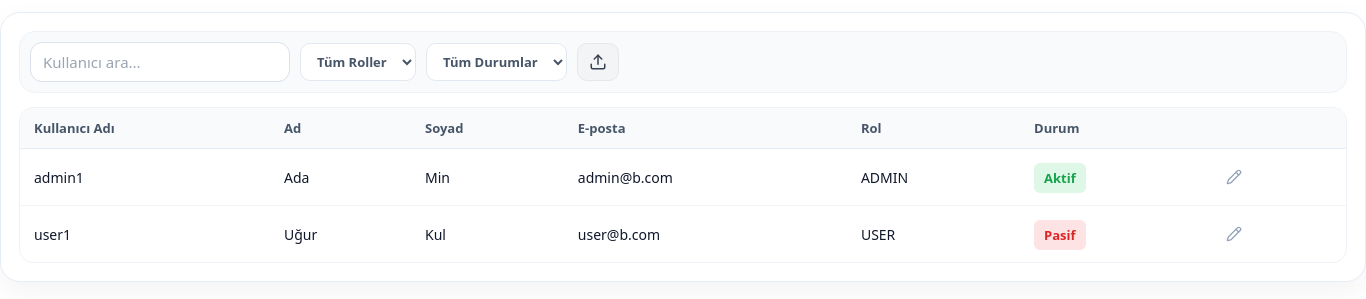
it: UserList › filters by role
Expected: the text "admin1" is shown, [20,149,270,206]
Select "Admin" in the 1st dropdown showing "Tüm Roller". click: (358, 62)
box: [300,43,416,81]
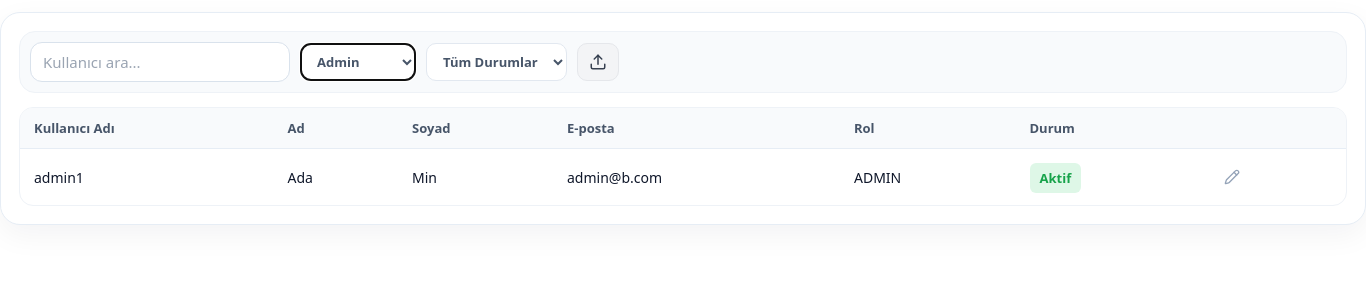
Expected: the text "admin1" is shown, [20,149,273,205]
Expected: the text "user1" is gone
